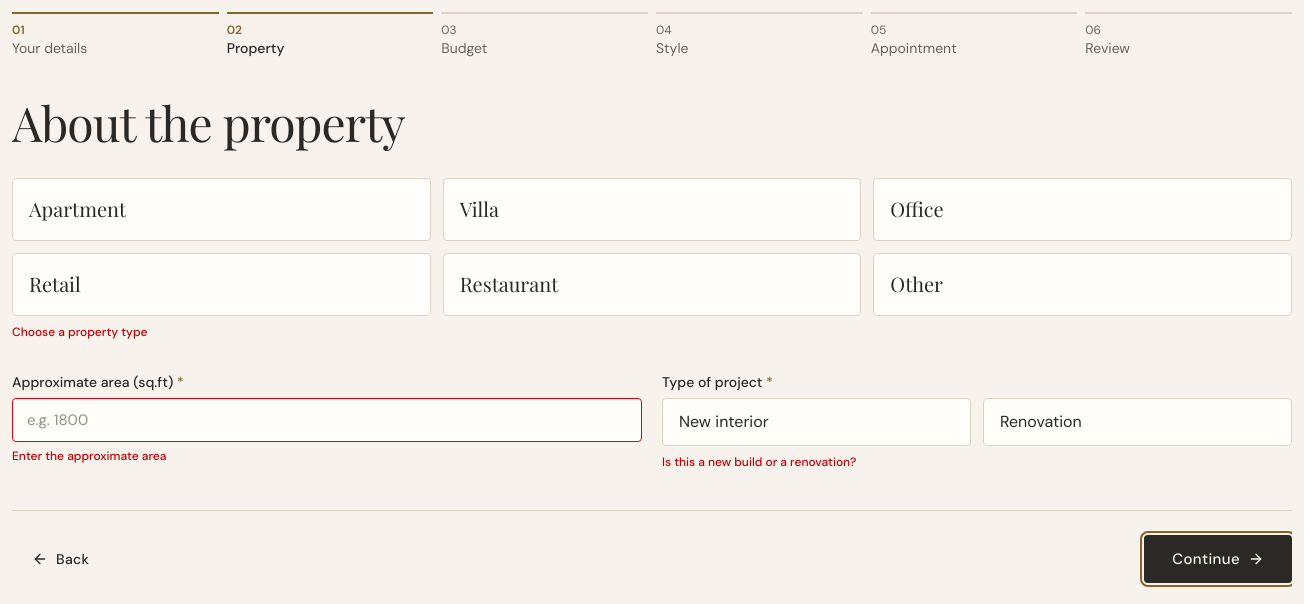
Test case: BookingForm › walks through the steps and validates each one
Earlier steps of the test are not shown.
Later steps or results of the test are not shown.
Expected: the text "Choose a property type" is shown, [12, 324, 148, 340]
Click the radio button labelled "Villa".
click(479, 208)  # box [443, 178, 861, 241]
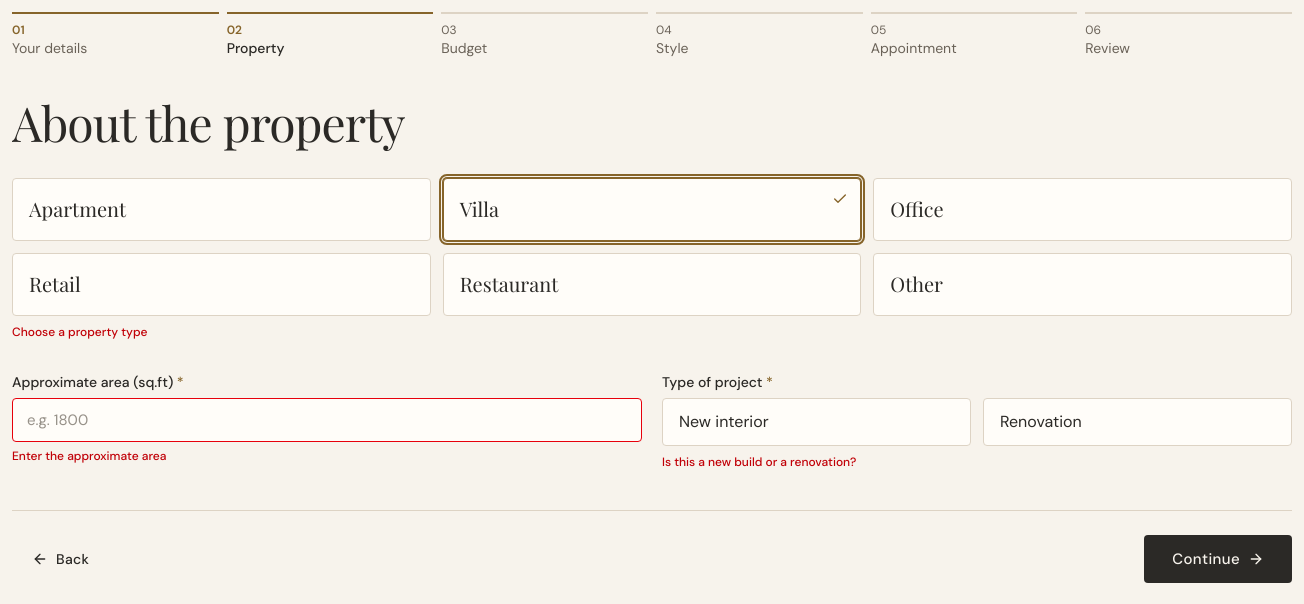
Type "3200" into the number field labelled "Approximate area (sq.ft) *".
click(327, 420); type("3200")  # box [12, 398, 642, 442]
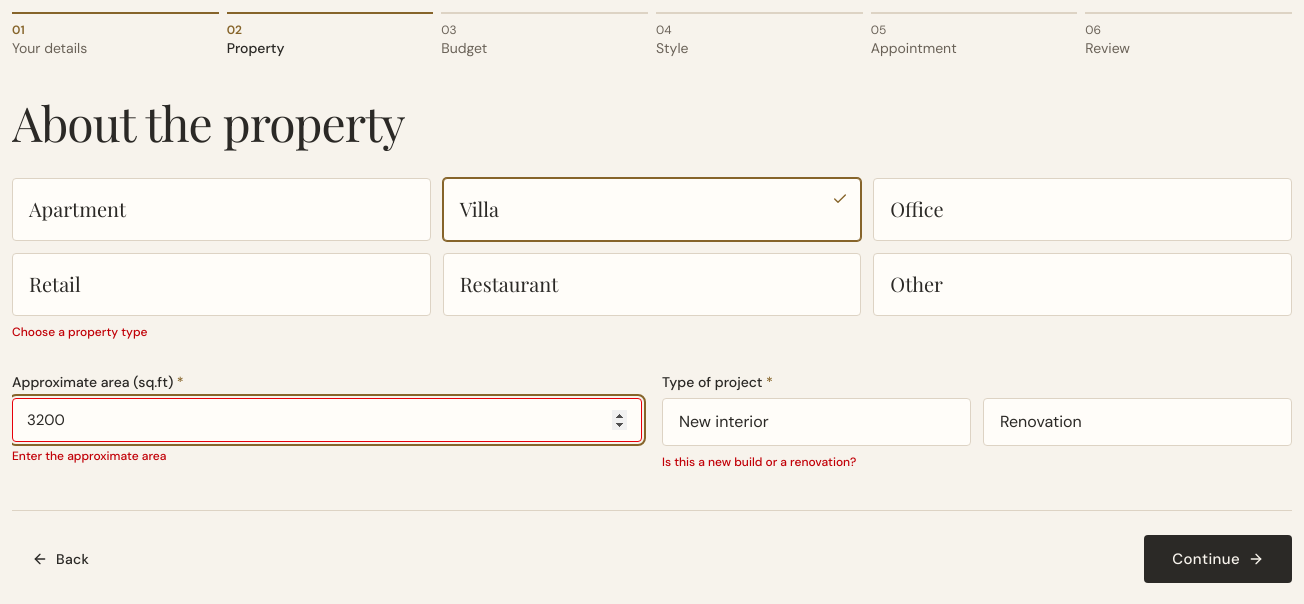
Click the radio button labelled "Renovation".
click(1041, 422)  # box [983, 398, 1292, 446]
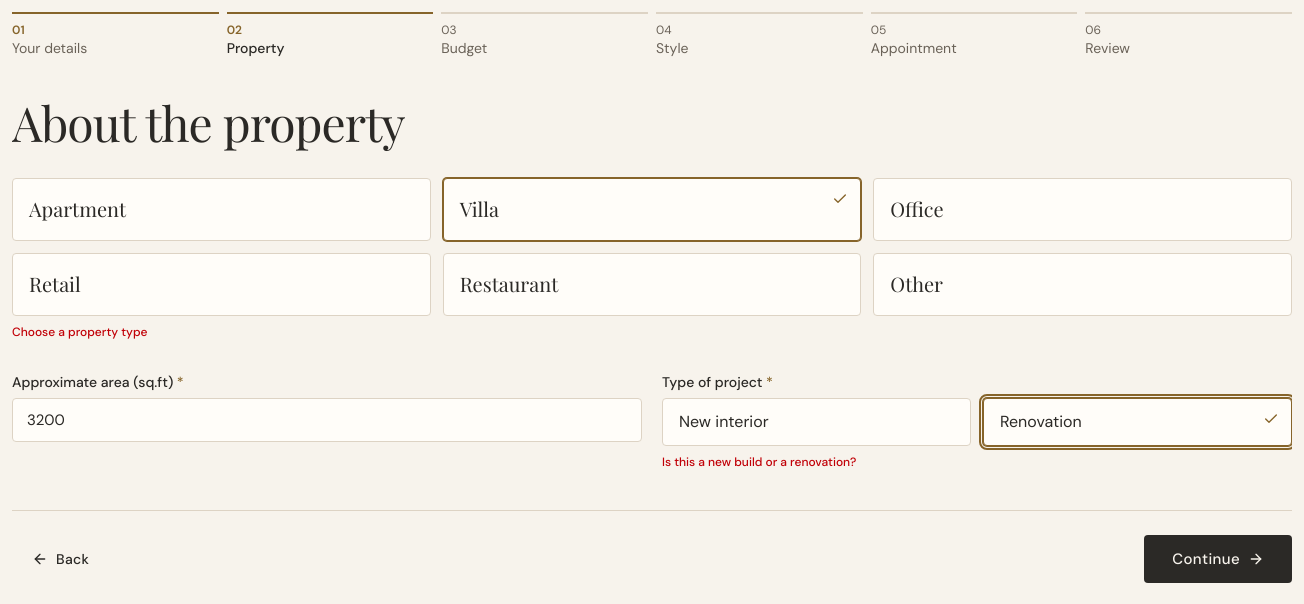
Click the button "Continue".
click(1218, 559)  # box [1144, 535, 1292, 583]
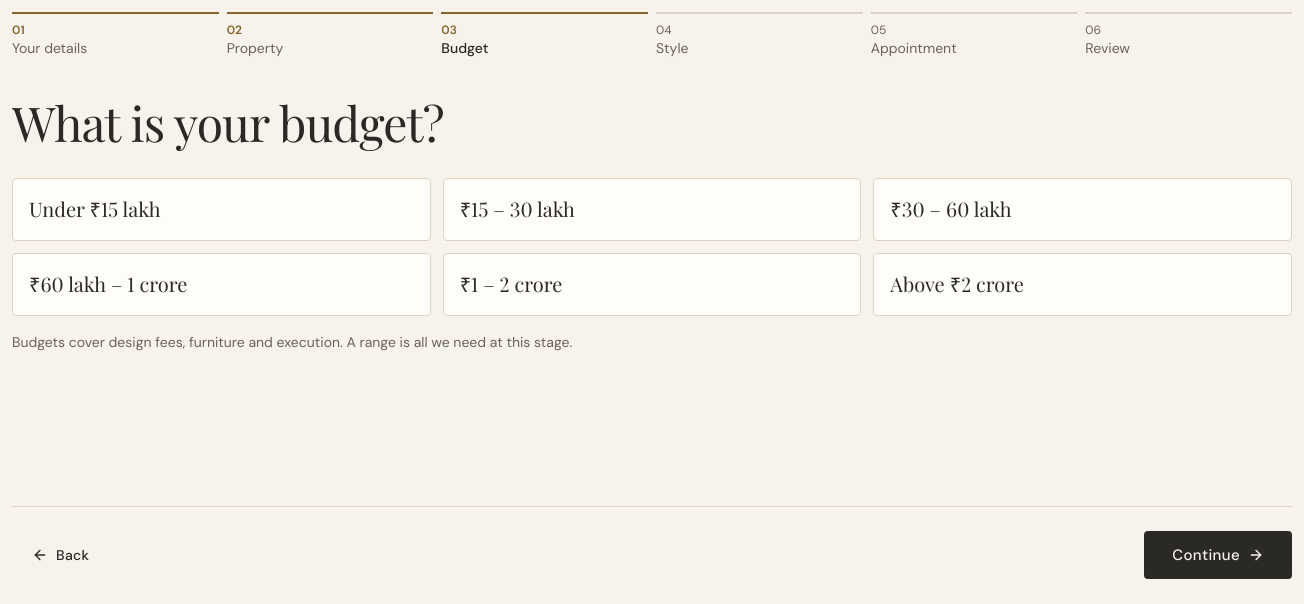
Now the heading "What is your budget?" is shown, box [12, 90, 444, 154]
Click the radio button labelled "₹1 – 2 crore".
click(511, 284)  # box [443, 253, 861, 316]
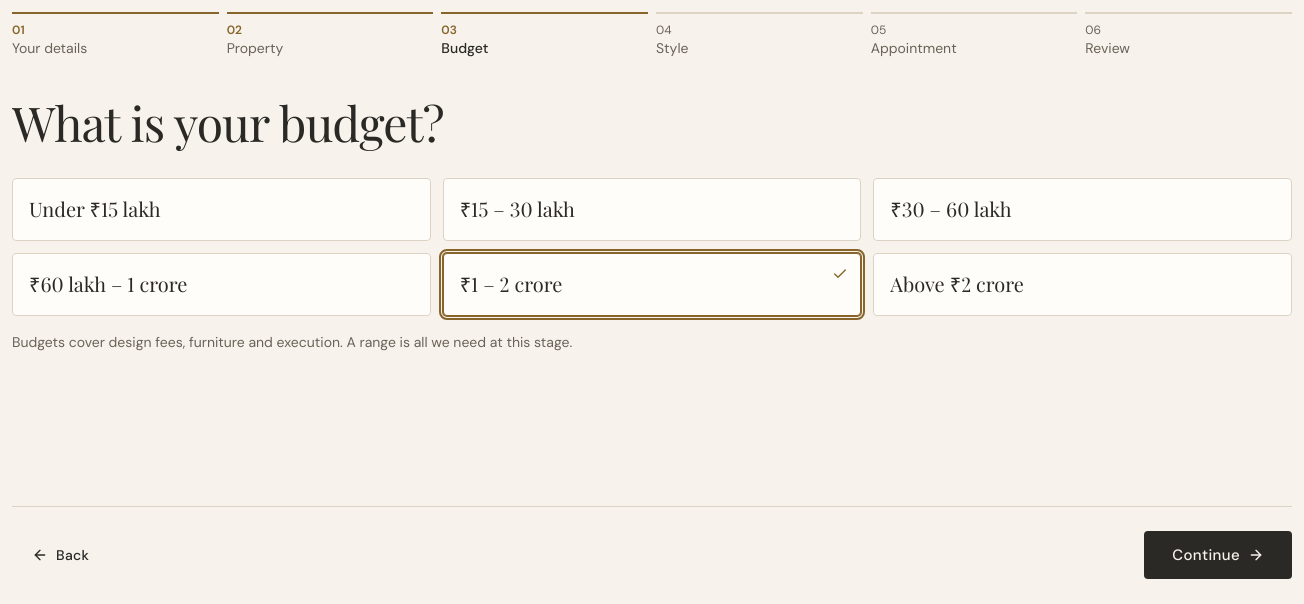
Click the button "Continue".
click(1218, 555)  # box [1144, 531, 1292, 579]
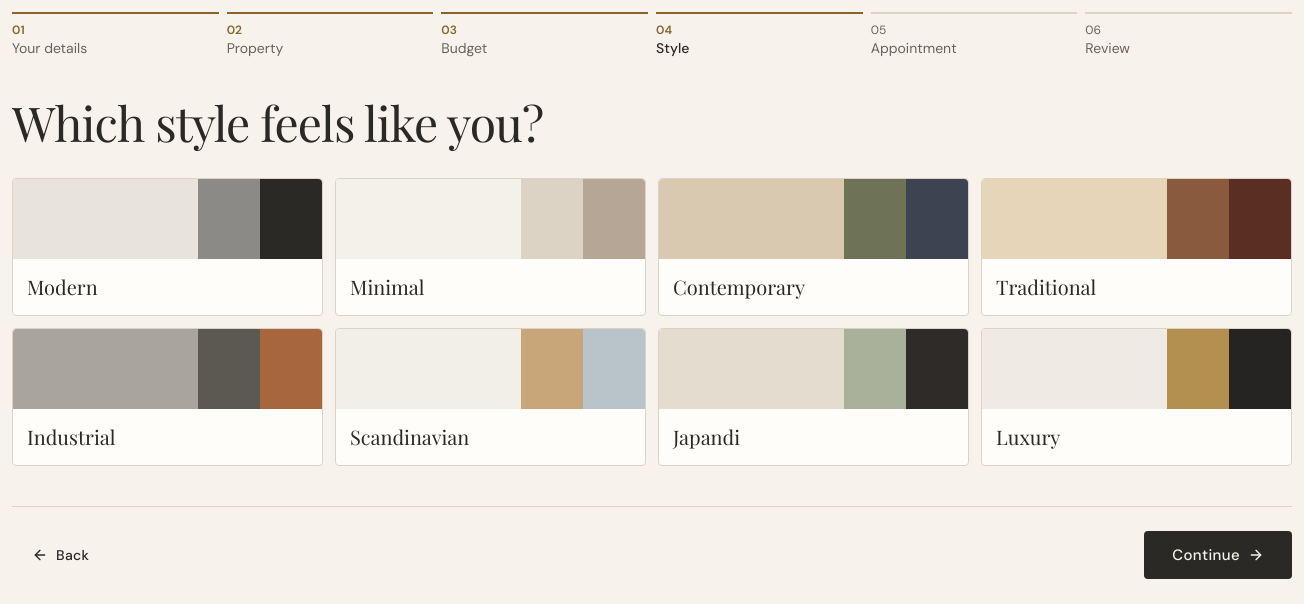
Now the heading "Which style feels like you?" is shown, box [12, 90, 543, 154]
